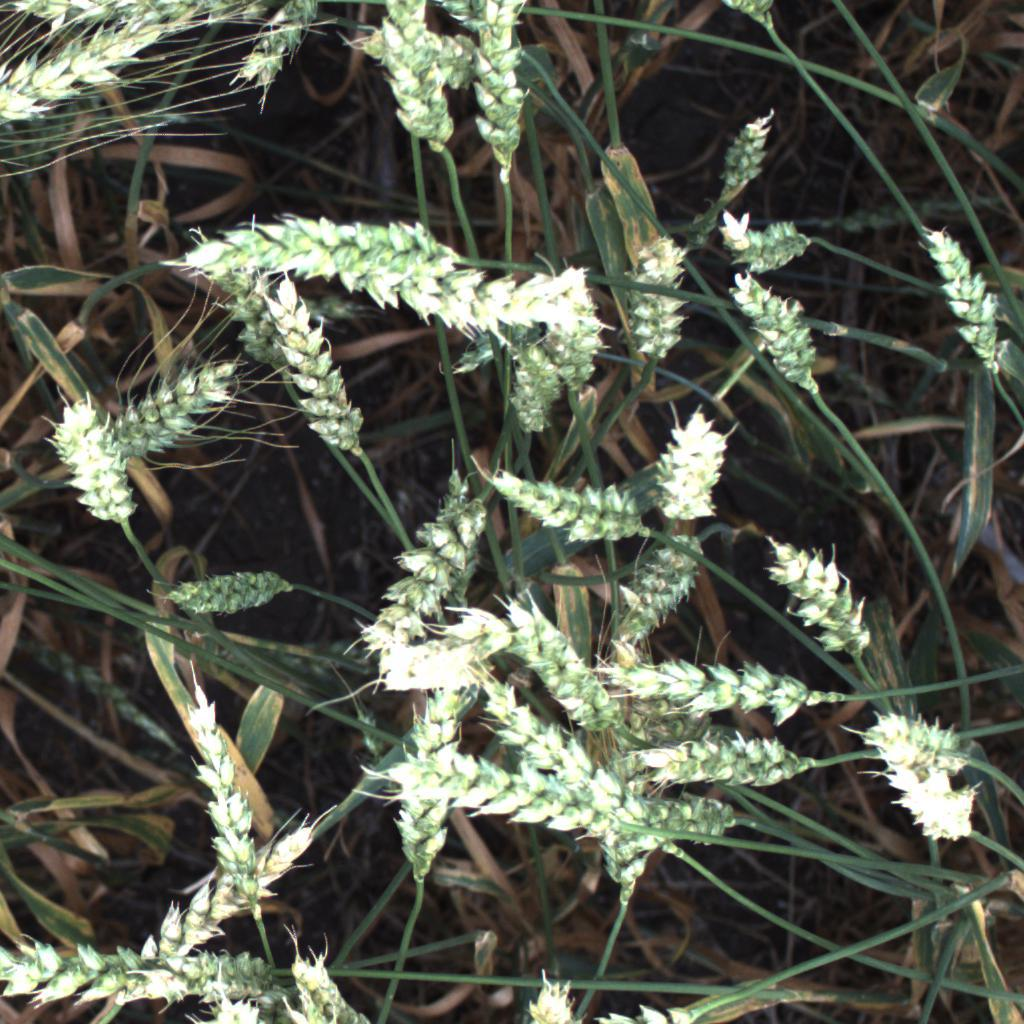0-0: (474, 670, 685, 863), (135, 811, 327, 979), (170, 660, 282, 922), (477, 580, 633, 742), (0, 8, 200, 133), (163, 208, 474, 285), (379, 751, 626, 845), (74, 350, 258, 470), (354, 488, 481, 656), (266, 284, 380, 464), (360, 252, 591, 335), (760, 513, 883, 664), (40, 384, 153, 537), (604, 652, 831, 727), (451, 0, 547, 173), (383, 693, 464, 888), (486, 455, 659, 543), (923, 217, 1010, 386), (729, 262, 828, 409), (383, 0, 463, 168), (342, 16, 498, 97), (629, 736, 818, 799), (0, 935, 169, 1005), (104, 947, 291, 1009), (619, 231, 700, 367), (617, 535, 716, 642), (879, 758, 986, 852), (857, 701, 978, 784), (151, 559, 295, 628), (658, 398, 732, 530), (213, 273, 299, 380), (542, 281, 616, 404), (715, 210, 844, 278), (233, 0, 318, 103), (280, 935, 375, 1024), (485, 333, 564, 440), (359, 641, 488, 698), (708, 100, 779, 200), (618, 792, 758, 841), (425, 596, 523, 664), (590, 818, 660, 898), (515, 963, 586, 1024), (0, 0, 146, 28), (586, 999, 706, 1024), (710, 0, 786, 36), (201, 994, 270, 1024)
